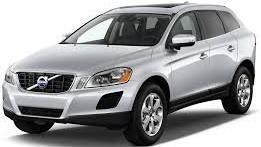SUV: (4, 7, 257, 146)
